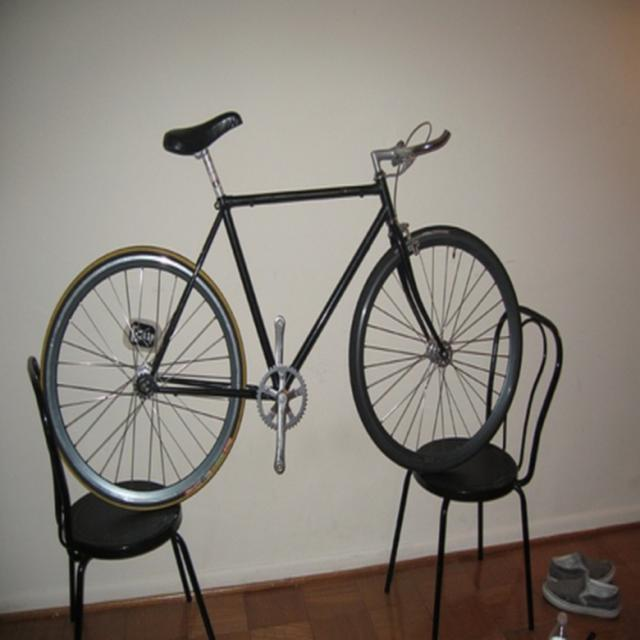bicycle: (36, 109, 523, 490)
